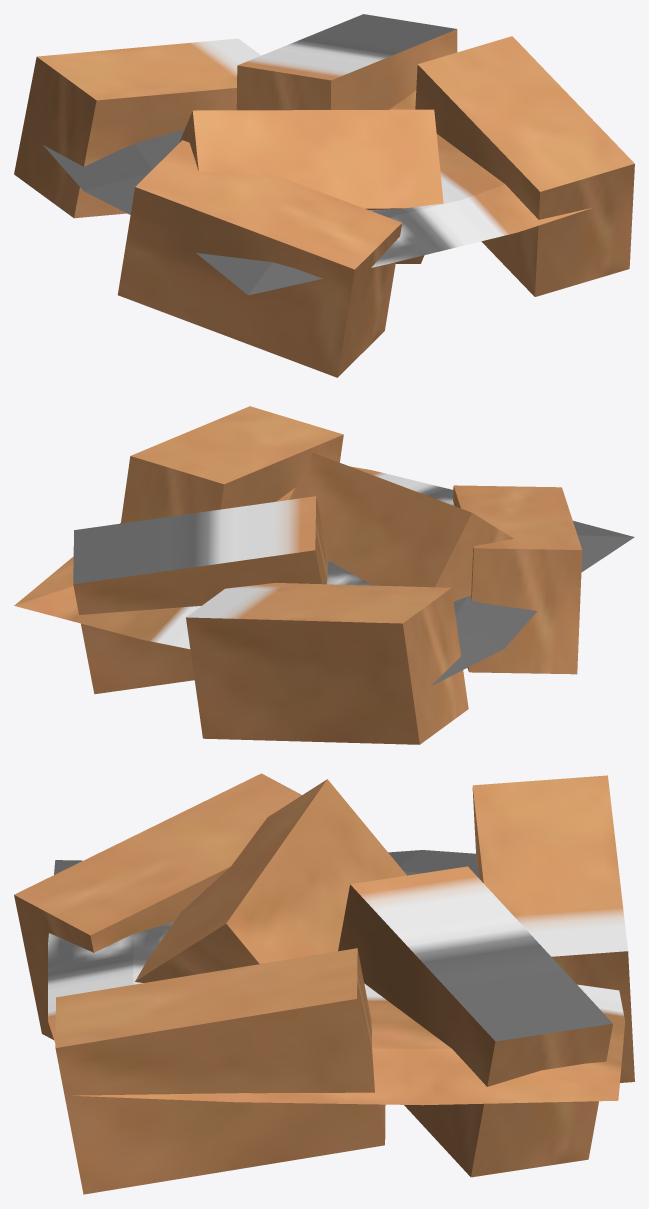
The model's file is Brick_Wall_1x1_Destructed.fbx.
The picture shows the model from 3 angles, top to bottom: view 1: azimuth 30°, elevation 25°; view 2: azimuth 150°, elevation 25°; view 3: azimuth 270°, elevation 25°; orthographic projection. The views are drawn at different scales.
Visible parts, largest first — view 1: Brick_Wall_1x1_Destructed; view 2: Brick_Wall_1x1_Destructed; view 3: Brick_Wall_1x1_Destructed.
Boxes of the visible parts, x1,y1,x2,y2 form: Brick_Wall_1x1_Destructed: (14, 14, 634, 377); Brick_Wall_1x1_Destructed: (14, 406, 634, 744); Brick_Wall_1x1_Destructed: (14, 773, 634, 1194).
Bounding box in the file's own units: 1.12 × 0.4647 × 1.11.
